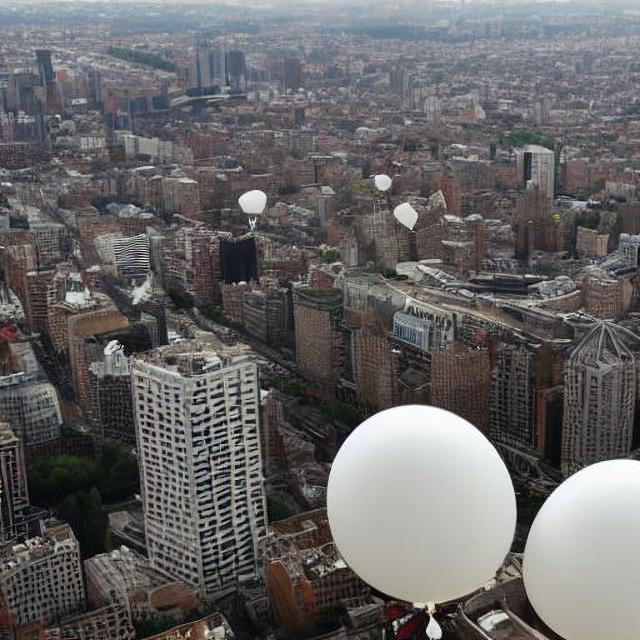balloon: (306, 369, 518, 613), (524, 405, 640, 613)
floating object: (218, 233, 259, 286)
plastic bag: (220, 165, 289, 232), (362, 145, 403, 202), (392, 198, 420, 232)
